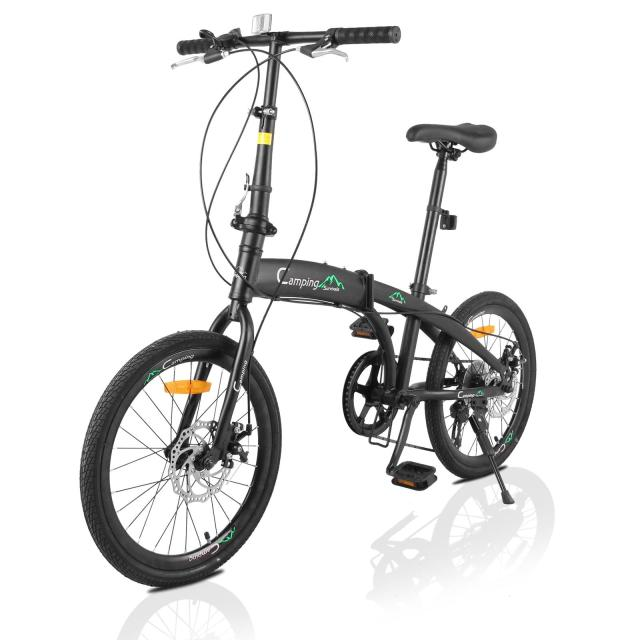folding-bike: (73, 9, 535, 593)
